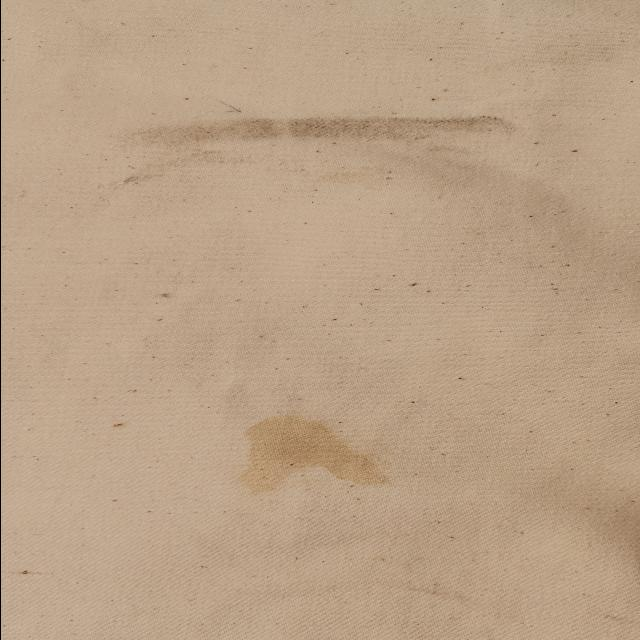taaaches: (96, 81, 538, 192), (196, 403, 426, 508)
